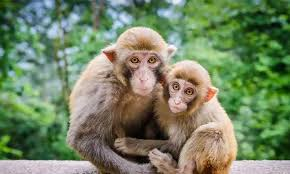monkey: (146, 33, 259, 165), (68, 12, 163, 157)
